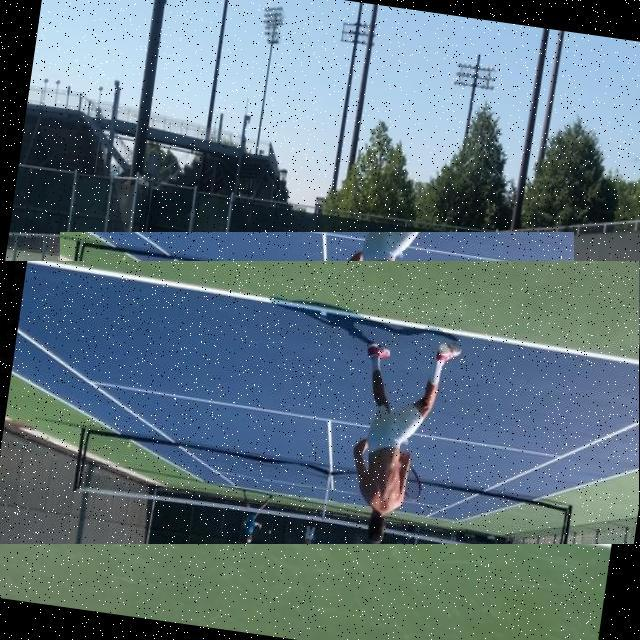court: (0, 261, 639, 544)
net: (60, 232, 574, 386)
player: (174, 244, 314, 482)
